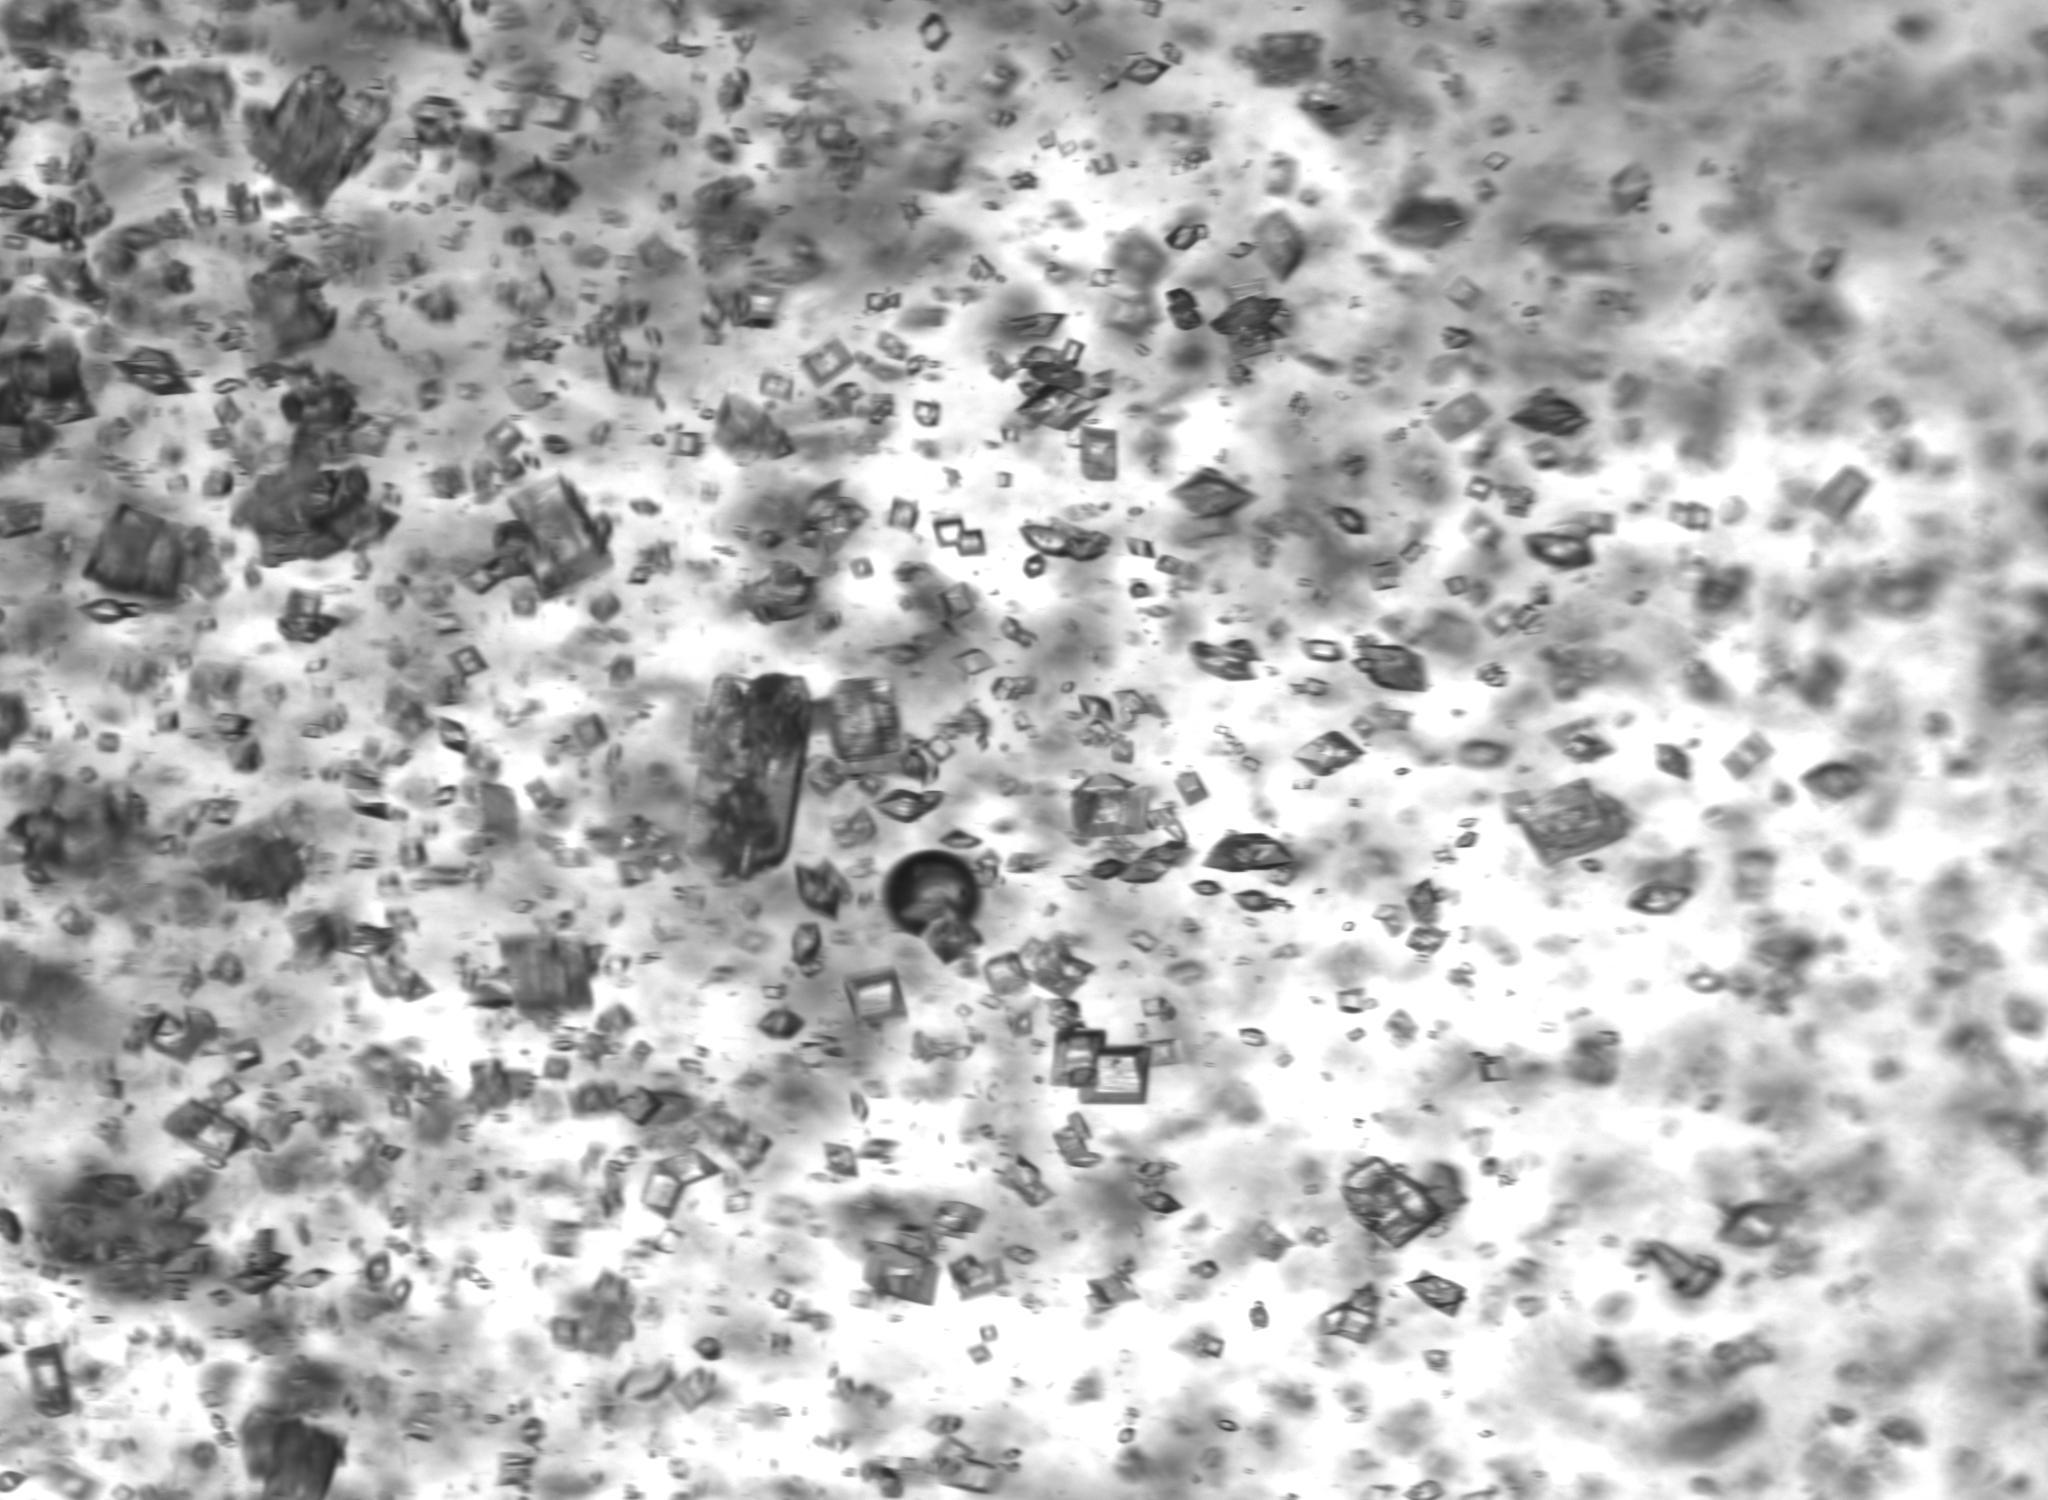crystal: (681, 674, 808, 878), (240, 67, 390, 216), (460, 471, 615, 601), (232, 468, 401, 568), (81, 503, 194, 604), (1509, 775, 1633, 867), (1339, 1153, 1445, 1250), (246, 253, 337, 353), (884, 849, 979, 938), (493, 932, 595, 1013), (1049, 1029, 1151, 1104), (981, 932, 1094, 999), (157, 1094, 254, 1166), (827, 676, 903, 760), (860, 1236, 940, 1306), (1205, 296, 1288, 363), (1072, 771, 1151, 840), (743, 560, 819, 627), (1167, 468, 1255, 522), (919, 1436, 999, 1495), (1010, 382, 1097, 434), (1806, 463, 1873, 530), (145, 1002, 216, 1063), (843, 966, 910, 1028), (917, 905, 986, 966), (1317, 1280, 1379, 1346), (496, 164, 580, 212), (1422, 390, 1495, 444), (116, 345, 196, 394), (1712, 1203, 1803, 1245), (1288, 730, 1366, 779), (1506, 396, 1593, 439), (1021, 519, 1111, 560), (1352, 644, 1426, 692), (994, 1150, 1053, 1210), (273, 587, 339, 641), (1200, 834, 1296, 870), (1191, 639, 1264, 681), (1118, 841, 1188, 884), (1053, 1112, 1104, 1171), (604, 342, 657, 398), (1719, 730, 1775, 783), (22, 1339, 73, 1397), (281, 387, 356, 425), (949, 1253, 1007, 1303), (798, 336, 855, 385), (407, 97, 464, 146), (1407, 1273, 1469, 1317), (1083, 1273, 1145, 1317), (797, 864, 844, 919), (868, 787, 943, 822), (611, 1082, 666, 1128), (728, 285, 784, 331), (1526, 533, 1596, 569), (654, 1148, 723, 1185), (639, 1166, 684, 1222), (479, 783, 518, 845), (523, 91, 582, 132), (343, 770, 390, 822), (1078, 423, 1118, 482), (1671, 1255, 1722, 1300), (1625, 883, 1690, 915), (75, 597, 146, 624), (673, 1370, 716, 1414), (932, 1201, 986, 1236), (614, 1366, 668, 1401), (504, 375, 555, 412), (933, 519, 986, 554), (229, 1268, 288, 1296), (569, 713, 611, 752), (1444, 272, 1485, 312), (938, 581, 976, 624), (129, 67, 173, 103), (482, 418, 523, 457), (447, 644, 490, 681), (1172, 770, 1212, 808), (1231, 889, 1294, 913), (1166, 288, 1202, 329), (17, 215, 73, 242), (790, 921, 822, 967), (1119, 57, 1170, 86), (224, 1037, 264, 1074), (1003, 313, 1062, 337), (758, 1010, 805, 1040), (1654, 743, 1689, 781), (948, 647, 997, 674), (989, 674, 1038, 701), (1032, 363, 1081, 390), (917, 11, 951, 51), (822, 1142, 859, 1177), (1164, 224, 1208, 253), (887, 496, 921, 534), (1145, 1039, 1186, 1067), (437, 716, 467, 754), (816, 116, 849, 150), (1477, 1055, 1515, 1083), (1407, 926, 1445, 954), (1137, 1191, 1185, 1214), (1329, 506, 1364, 536), (1113, 689, 1154, 714), (1078, 695, 1116, 722), (1016, 347, 1062, 369), (1367, 560, 1399, 592), (1003, 617, 1037, 647), (921, 733, 956, 762), (1126, 927, 1162, 954), (1301, 639, 1344, 662), (758, 372, 792, 401), (1057, 337, 1086, 369), (1140, 806, 1177, 830), (291, 1268, 336, 1287), (208, 799, 242, 824), (1091, 857, 1129, 880), (1401, 1479, 1441, 1500), (428, 612, 464, 635), (1088, 371, 1113, 402), (245, 1250, 291, 1268), (700, 297, 722, 332), (1336, 988, 1364, 1015), (1463, 476, 1493, 501), (617, 862, 649, 886), (1509, 604, 1541, 628), (938, 832, 981, 849), (215, 713, 248, 735), (911, 399, 940, 425), (553, 848, 588, 869), (1003, 1244, 1038, 1265), (1089, 151, 1119, 175), (367, 1255, 391, 1285), (1124, 538, 1156, 560), (1153, 554, 1185, 576), (968, 253, 995, 278), (1399, 539, 1428, 563), (693, 1338, 722, 1362), (210, 377, 248, 394), (1188, 880, 1224, 897), (1235, 1028, 1269, 1047), (1226, 240, 1259, 259), (1007, 853, 1035, 875), (1439, 328, 1472, 347), (542, 1056, 571, 1078), (867, 293, 902, 310), (674, 433, 700, 457), (1022, 552, 1045, 579), (1048, 40, 1075, 62), (1138, 996, 1167, 1016), (965, 1344, 994, 1365), (1687, 501, 1708, 530), (1202, 1335, 1226, 1358), (1194, 1258, 1220, 1280), (1479, 151, 1507, 170), (1088, 269, 1116, 288), (1008, 173, 1037, 192), (832, 382, 860, 401), (849, 557, 873, 579), (1248, 1304, 1269, 1330), (725, 1191, 751, 1212), (1442, 576, 1469, 595), (768, 1288, 790, 1309), (628, 565, 652, 584), (1061, 875, 1088, 891), (1113, 741, 1134, 762), (979, 1323, 1000, 1343), (1089, 719, 1110, 738), (431, 786, 453, 803), (1137, 1163, 1164, 1177), (1453, 832, 1477, 848), (1127, 582, 1148, 600), (1240, 756, 1261, 773), (730, 127, 751, 145), (1142, 0, 1162, 17), (757, 531, 779, 547), (380, 1144, 402, 1160), (1215, 1419, 1239, 1433), (1345, 1028, 1369, 1042), (1116, 1427, 1135, 1444), (510, 900, 534, 911), (906, 355, 919, 375), (995, 471, 1011, 487), (1340, 921, 1355, 932), (1059, 681, 1073, 692)
